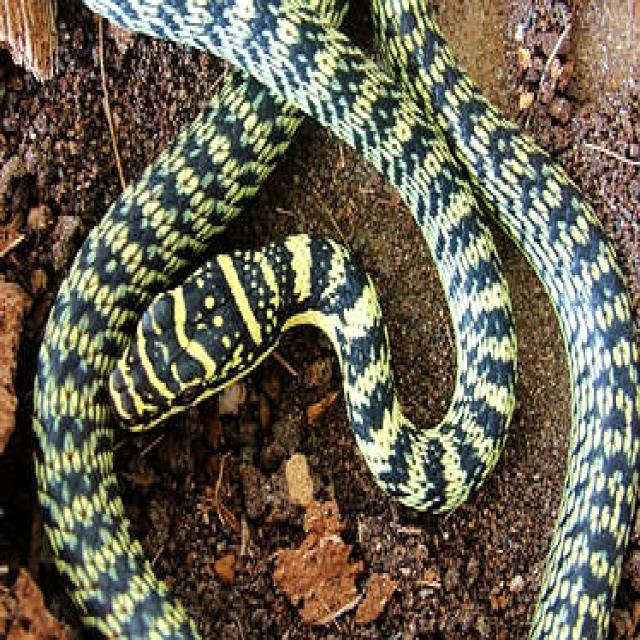Chrysopelea ornata: (35, 0, 638, 637)
